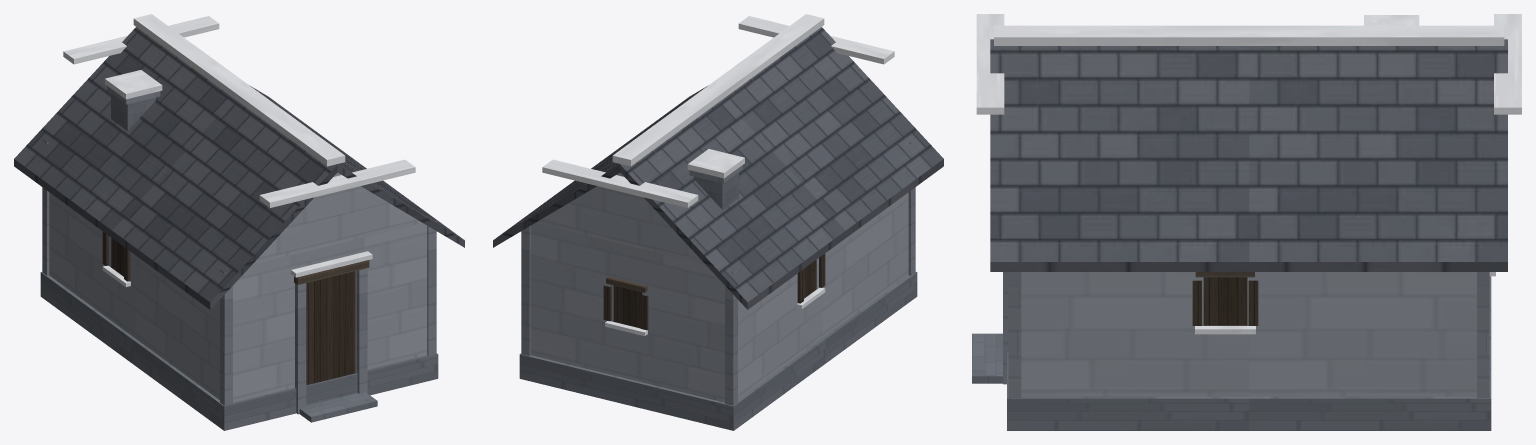
The model's file is ae_snow_stone_medium_block_lod0.glb.
3 renders of one model, left to right at view 1: azimuth 30°, elevation 25°; view 2: azimuth 150°, elevation 25°; view 3: azimuth 270°, elevation 25°, orthographic. The views are drawn at different scales.
Parts seen in each view (by area): view 1: ae_snow_stone_medium_block_lod0; view 2: ae_snow_stone_medium_block_lod0; view 3: ae_snow_stone_medium_block_lod0.
Boxes of the visible parts, x1,y1,x2,y2 form: ae_snow_stone_medium_block_lod0: (14, 14, 464, 430); ae_snow_stone_medium_block_lod0: (493, 14, 943, 430); ae_snow_stone_medium_block_lod0: (972, 14, 1521, 430).
Bounding box in the file's own units: 4.9 × 4.61 × 6.94.
1 material, 1 textured.
